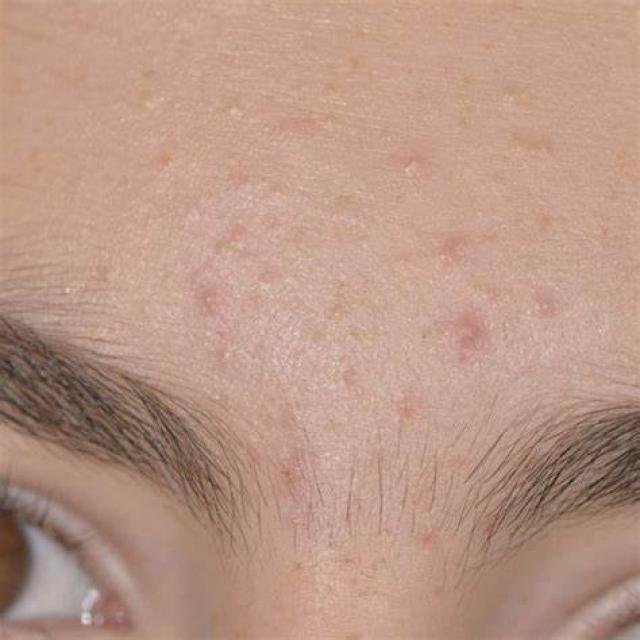fungal: (78, 78, 586, 410)
